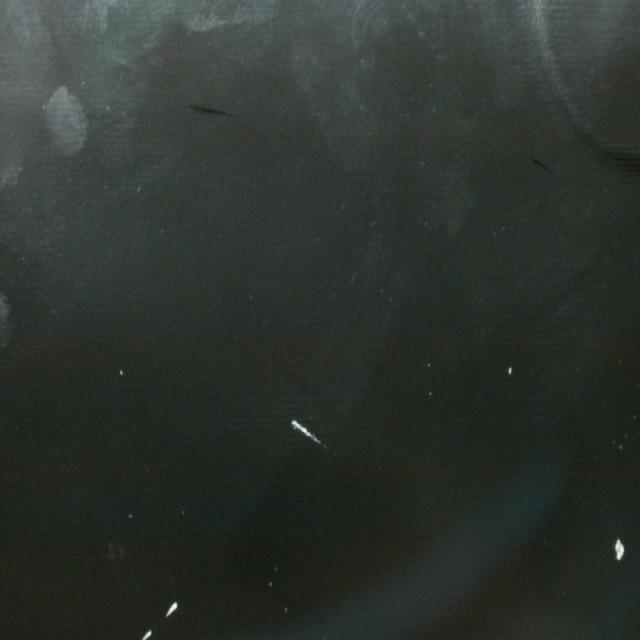scratch: (285, 412, 336, 455), (135, 598, 185, 638), (188, 95, 232, 127)
very small scratch: (612, 532, 628, 566), (504, 360, 516, 378)
